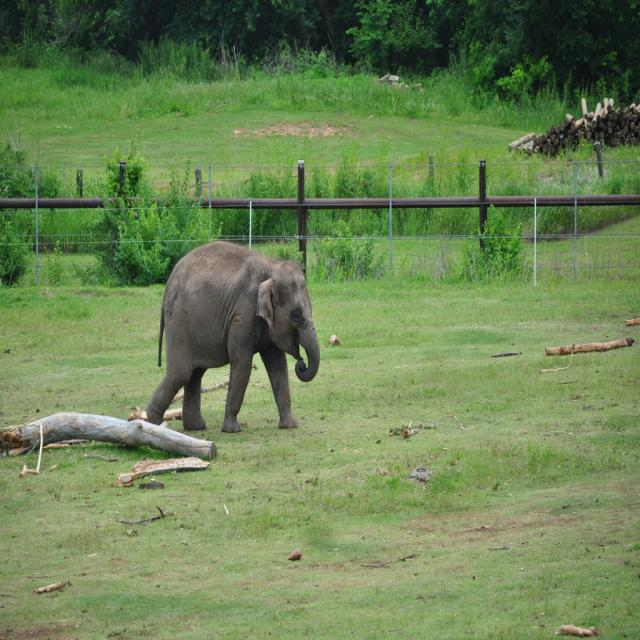elephant: (142, 241, 320, 440)
